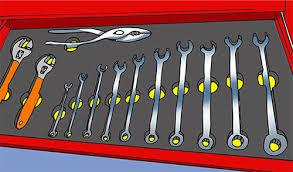wrench: (13, 52, 57, 129), (0, 36, 34, 103)
